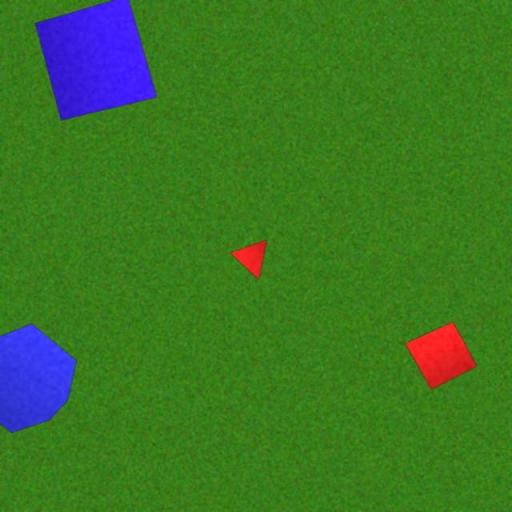BLUE_SQUARE: (34, 0, 158, 122)
RED_SQUARE: (404, 321, 478, 390)
